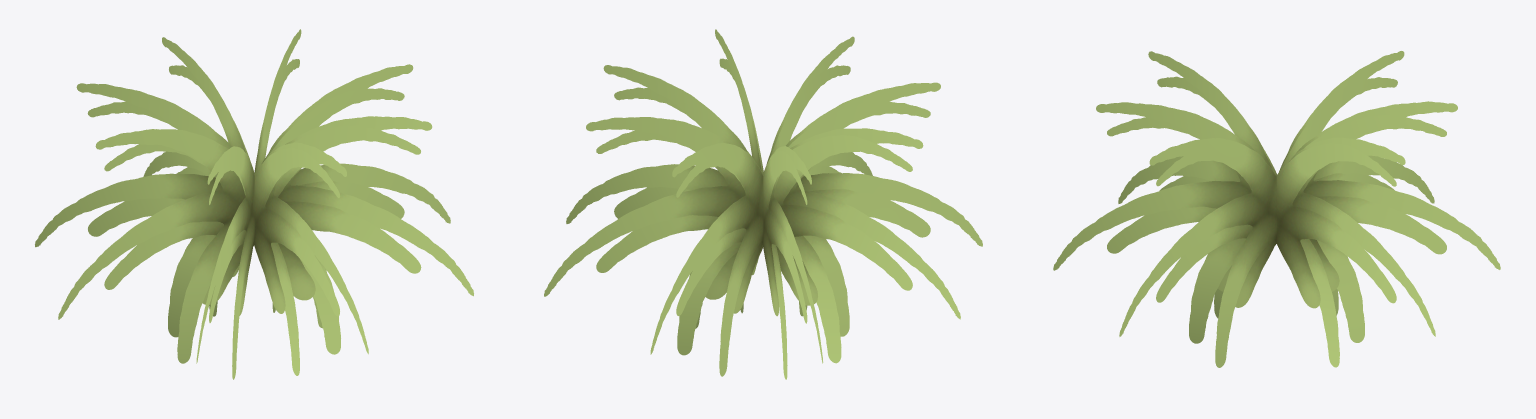
Rendered from HP3_weed034 1.fbx.
3 views of the same model, side by side, from view 1: azimuth 30°, elevation 25°; view 2: azimuth 150°, elevation 25°; view 3: azimuth 270°, elevation 25° (orthographic).
Visible parts, largest first — view 1: HP3_weed034; view 2: HP3_weed034; view 3: HP3_weed034.
Boxes of the visible parts, <box> form: HP3_weed034: <box>35,29,473,379</box>; HP3_weed034: <box>544,29,982,379</box>; HP3_weed034: <box>1053,51,1500,367</box>.
Size of the model in its own units: 11.74 by 6.83 by 11.74.
